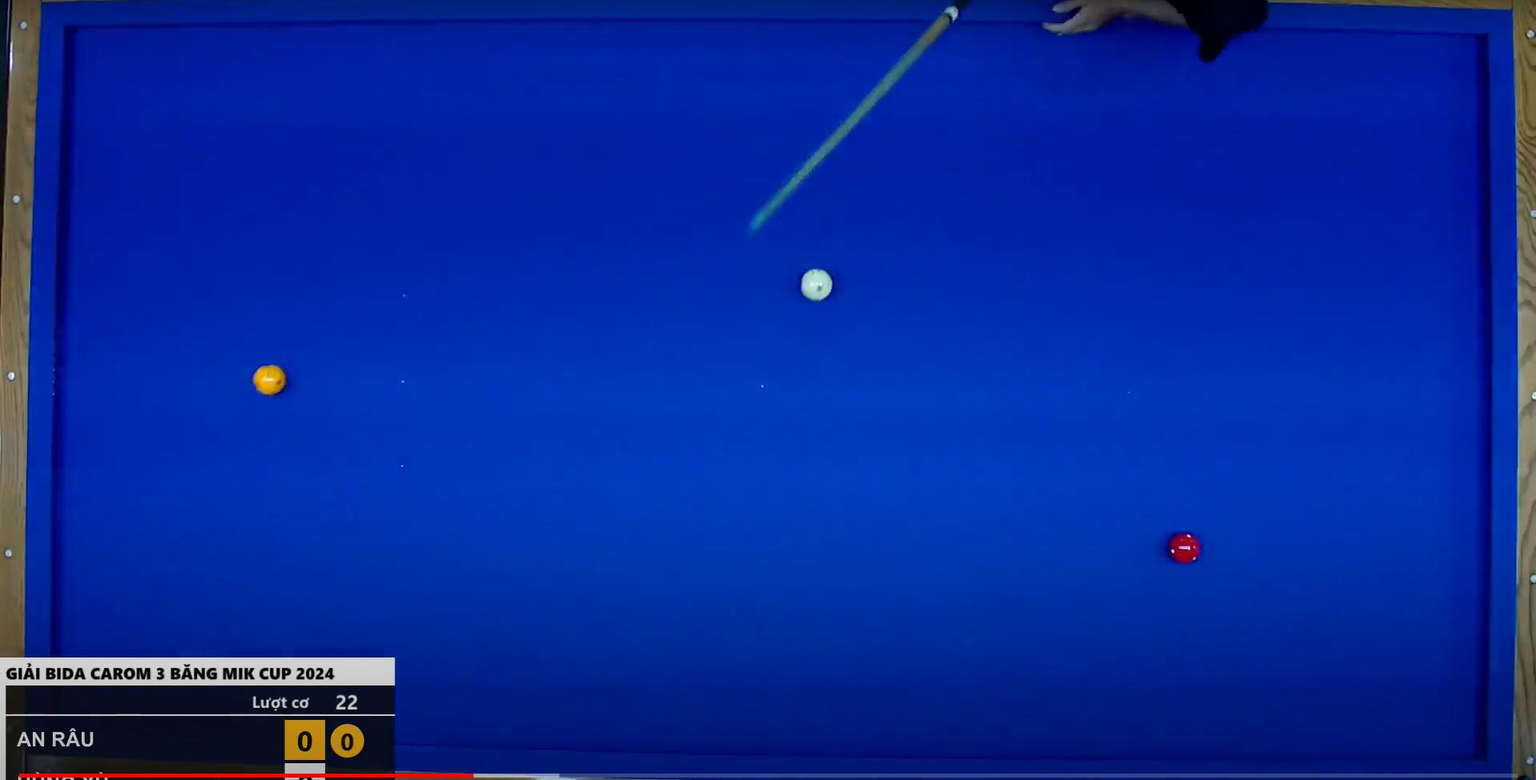red ball: (1157, 521, 1209, 575)
white ball: (796, 262, 836, 310)
yellow ball: (244, 356, 292, 406)
